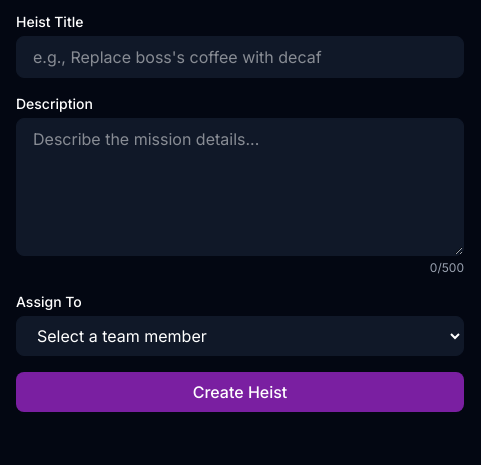
Test: CreateHeistForm › shows error message when Firestore write fails
Type "Test Heist" into the field labelled "Heist Title" at (240, 57), box [16,36,464,78]
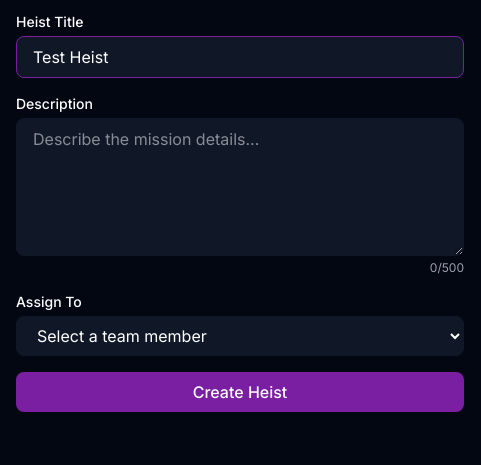
Type "This is a test description" into the text box labelled "Description" at (240, 187), box [16,118,464,256]
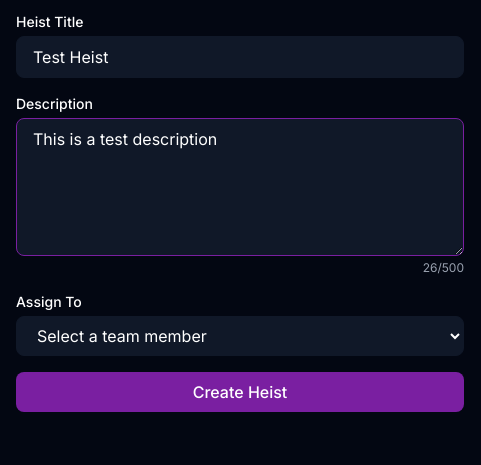
Select "OtherUser" in the dropdown labelled "Assign To" at (240, 336), box [16,316,464,356]
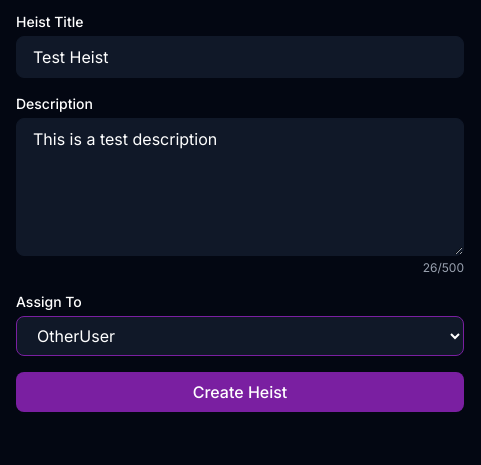
Click the button "Create Heist" at (240, 392), box [16,372,464,412]
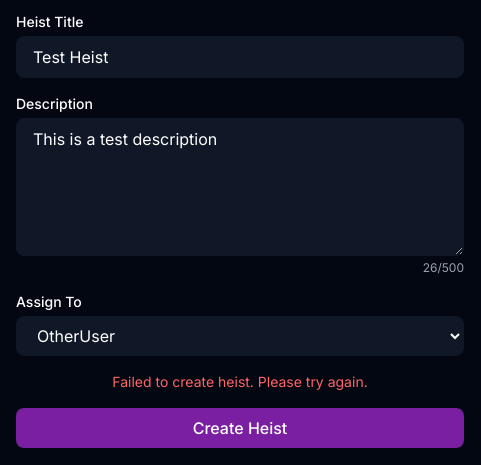
Expected: the text "Failed to create heist. Please try again." is shown, [112,373,368,390]
